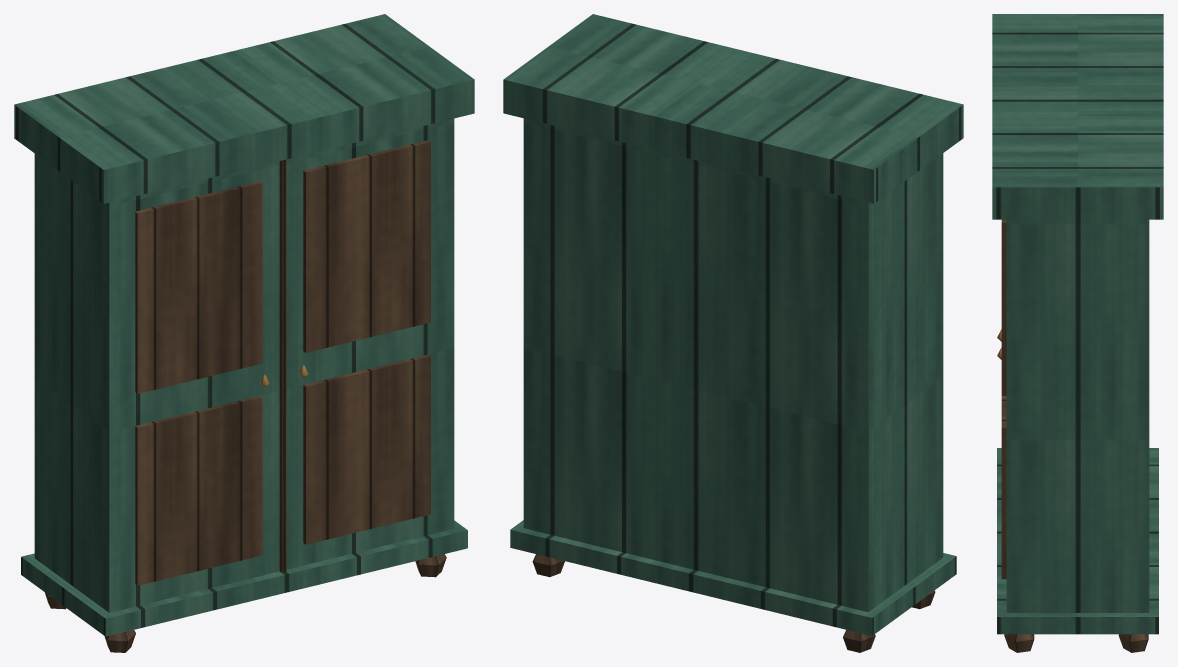
Rendered from Wardrobe_Painted_1_LOD1.gltf.
3 renders of one model, left to right at view 1: azimuth 30°, elevation 25°; view 2: azimuth 150°, elevation 25°; view 3: azimuth 270°, elevation 25°, orthographic. The views are drawn at different scales.
Visible parts, largest first — view 1: Wardrobe_Painted_1_LOD1; view 2: Wardrobe_Painted_1_LOD1; view 3: Wardrobe_Painted_1_LOD1.
Part boxes in pixels (x1,y1,x2,y2): Wardrobe_Painted_1_LOD1: (14,14,474,652); Wardrobe_Painted_1_LOD1: (503,14,963,652); Wardrobe_Painted_1_LOD1: (992,14,1163,652).
Bounding box in the file's own units: 1.72 × 2.2 × 0.72.
Materials: 3 (3 with a texture image).
